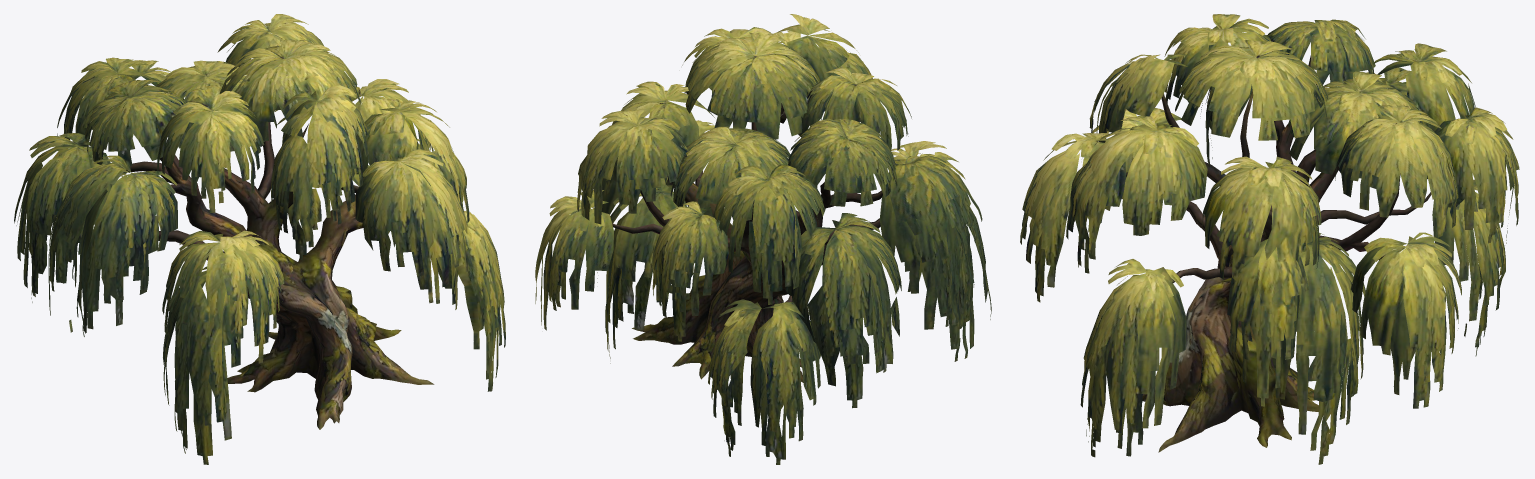
File: act1-a04-1-old-willow.glb
3 views of the same model, side by side, from view 1: azimuth 30°, elevation 25°; view 2: azimuth 150°, elevation 25°; view 3: azimuth 270°, elevation 25° (orthographic). The views are drawn at different scales.
Visible parts, largest first — view 1: act1-a04-1-old-willow; view 2: act1-a04-1-old-willow; view 3: act1-a04-1-old-willow.
Part boxes in pixels (left/top/right/bottom): act1-a04-1-old-willow: left=14, top=14, right=505, bottom=464; act1-a04-1-old-willow: left=535, top=14, right=991, bottom=464; act1-a04-1-old-willow: left=1020, top=14, right=1519, bottom=464.
Bounding box in the file's own units: 6.52 × 5.4 × 6.86.
1 material, 1 textured.
